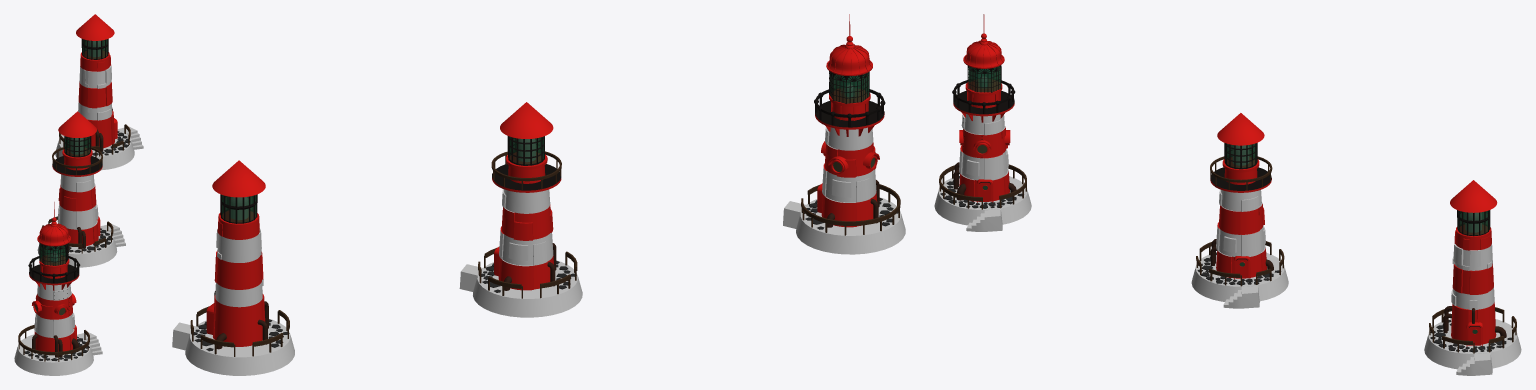
File: lighthouse.obj
The picture shows the model from 3 angles, left to right: view 1: azimuth 30°, elevation 25°; view 2: azimuth 150°, elevation 25°; view 3: azimuth 270°, elevation 25°; orthographic projection. The views are drawn at different scales.
Parts seen in each view (by area): view 1: lv3, lv2, lv1; view 2: lv3, lv2, lv1; view 3: lv3, lv2, lv1.
Boxes of the visible parts, x1,y1,x2,y2 form: lv3: (14,202,102,375); lv2: (37,111,125,267); lv1: (55,14,143,170); lv3: (783,14,905,254); lv2: (459,102,582,317); lv1: (172,160,294,375); lv3: (934,14,1031,231); lv2: (1191,113,1288,308); lv1: (1424,180,1521,375).
Bounding box in the file's own units: 16.31 × 7.69 × 21.26.
